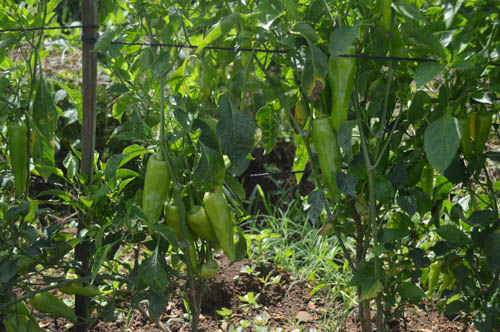ChiliPepper: (138, 155, 169, 238), (200, 196, 237, 260), (331, 46, 357, 129), (161, 206, 196, 265), (316, 118, 339, 192), (7, 121, 29, 193), (28, 296, 75, 321), (188, 211, 209, 246)
